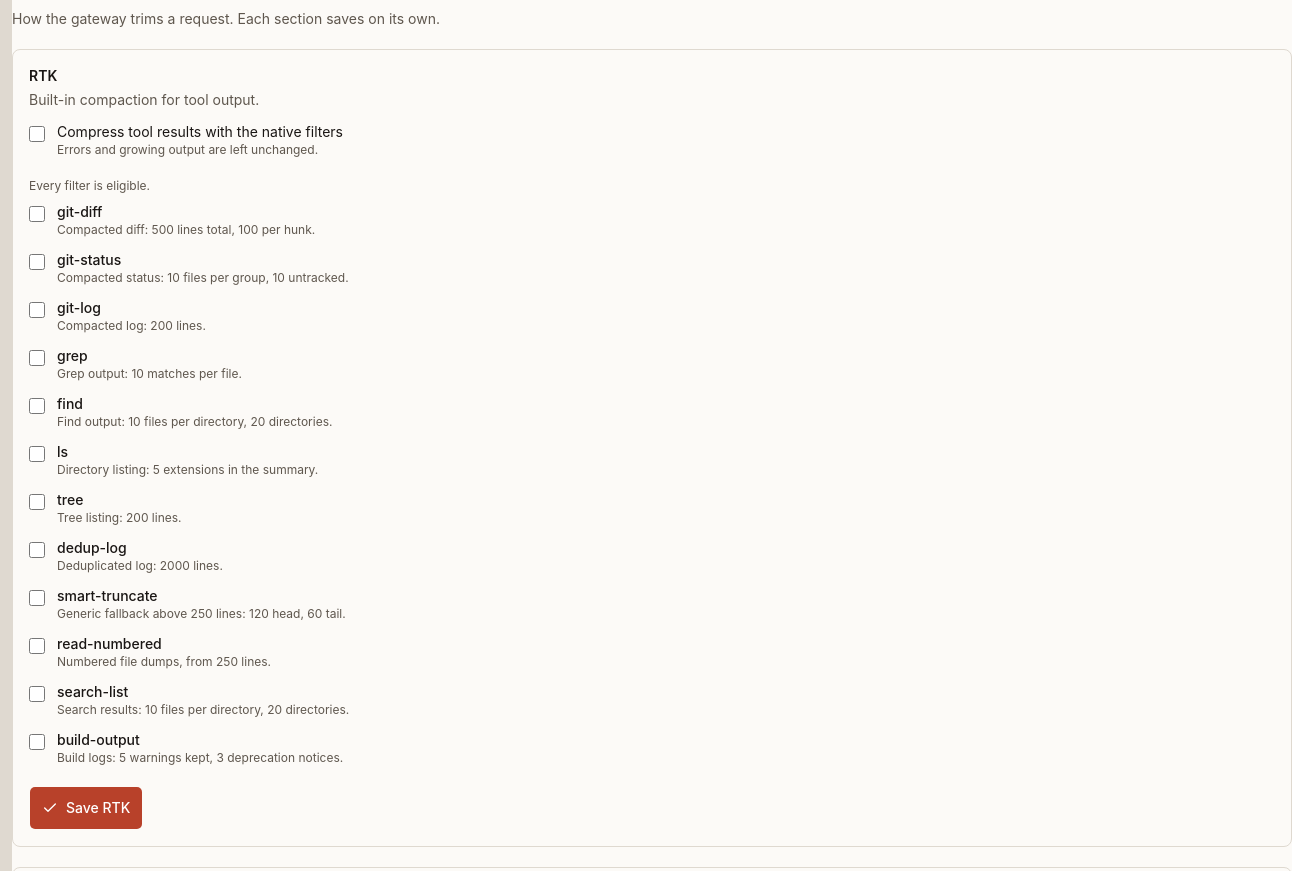
Scenario: TokenSaverPage saves › shows the API refusal as an alert and keeps the form usable
Expected: the heading "RTK" is shown, [29, 67, 57, 84]
What coordinates should you click on to do the following:
click the checkbox labelled "Compress tool results"
I would click on:
 (37, 134)
Its box is [29, 126, 45, 142].
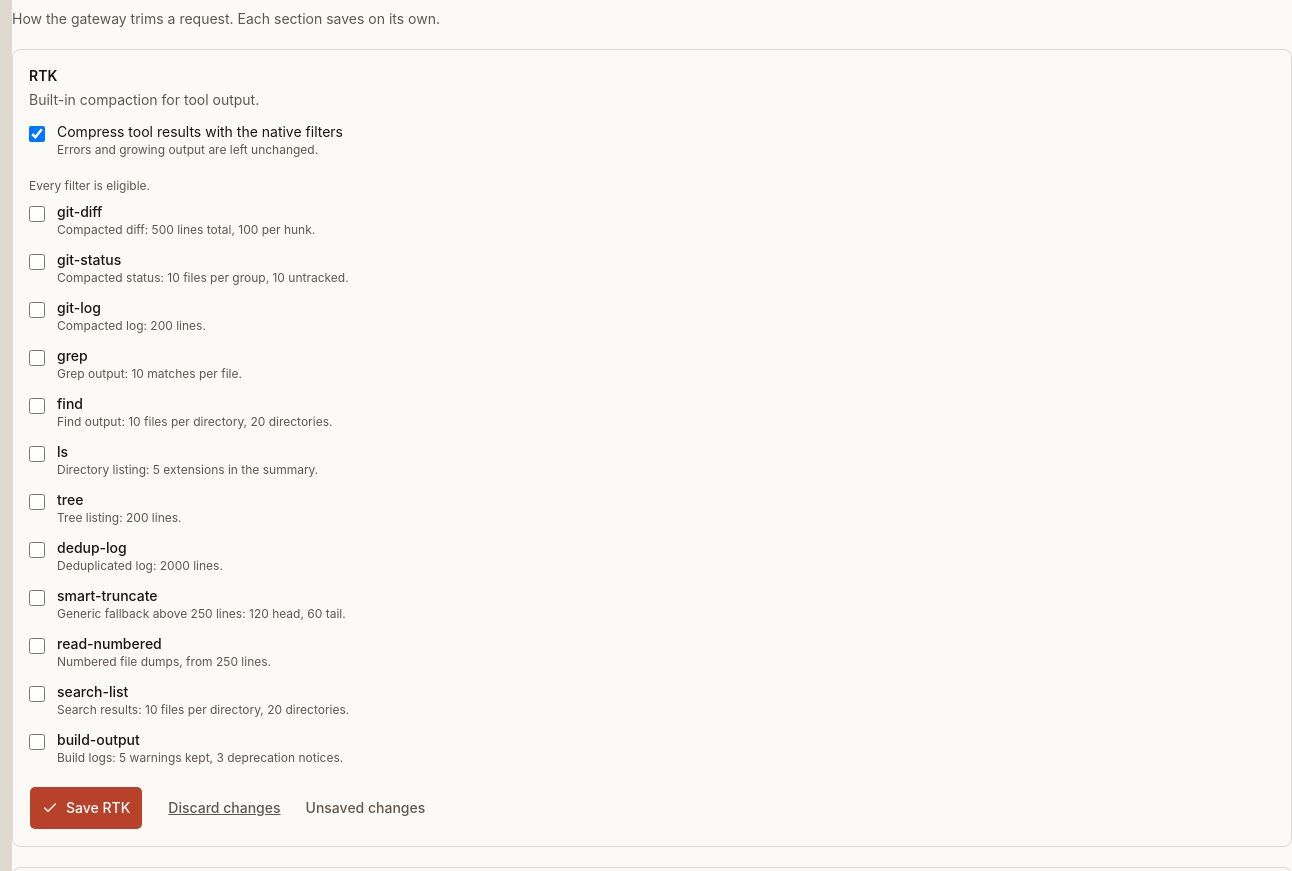
What coordinates should you click on to do the following:
click the button "Save RTK"
I would click on:
 (86, 808)
Its box is [29, 786, 143, 830].
(page scrolled)
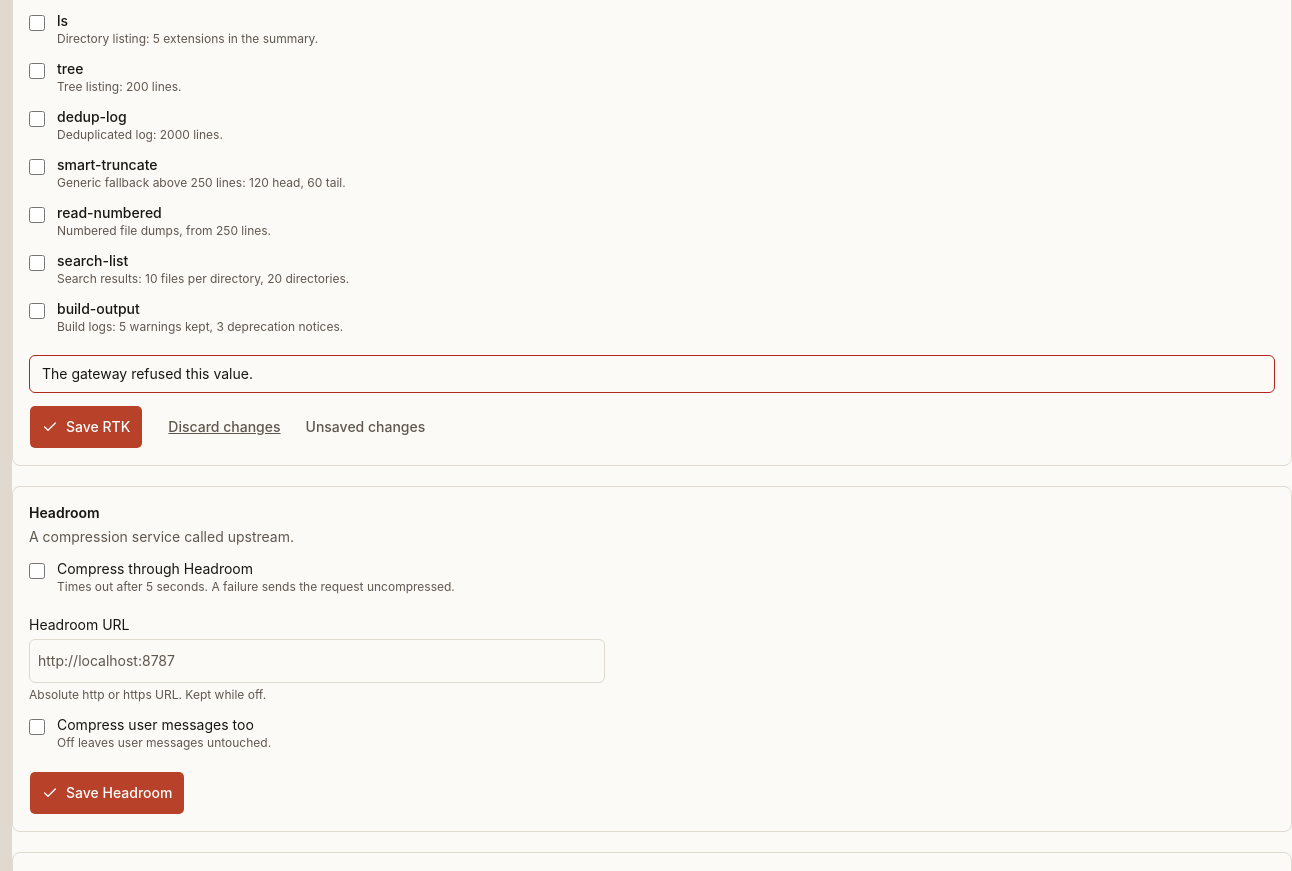
Expected: the button "Save RTK" is shown, [29, 405, 143, 449]
Expected: the text "The gateway refused this value." is shown, [42, 365, 253, 382]
